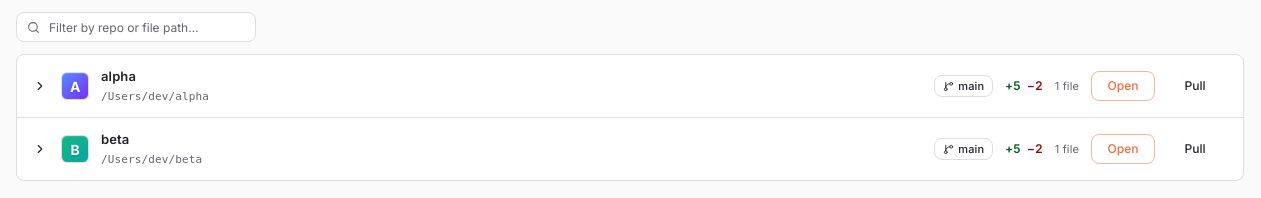
it: ChangesPage › filters repos by changed file path
Type "alpha.ts" into the field at (146, 27), box [47, 18, 245, 36]
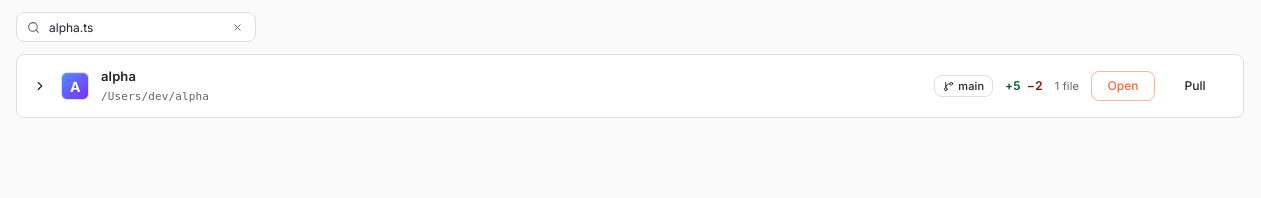
Expected: the number of elements with test id "changes-row" is 1, [33, 68, 1227, 102]
